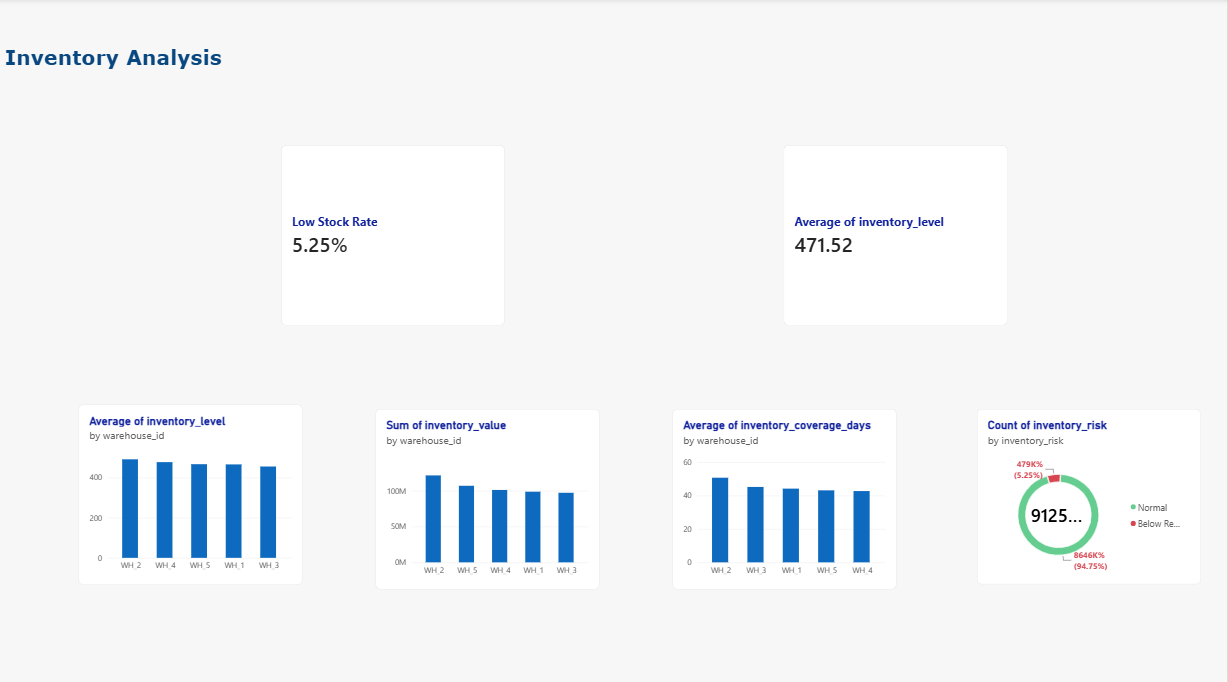

Layout of this report page (visuals, bound fields, positions):
{"tool":"powerbi","page":{"name":"Inventory Analysis","canvas":[1920,1080],"ordinal":1},"visuals":[{"type":"cardVisual","fields":{"Data":["Avg(public supply_chain.inventory_level)"]},"box":[1226.2,229.8,350,282],"z":0},{"type":"cardVisual","fields":{"Data":["public supply_chain.Low Stock Rate"]},"box":[440.8,229.8,350,282],"z":1},{"type":"clusteredColumnChart","fields":{"Category":["public supply_chain.warehouse_id"],"Y":["Avg(public supply_chain.inventory_level)"]},"box":[124.3,635.4,350,282],"z":2},{"type":"donutChart","fields":{"Category":["public supply_chain.inventory_risk"],"Y":["CountNonNull(public supply_chain.inventory_risk)"]},"box":[1528.6,642.4,350,274],"z":3},{"type":"clusteredColumnChart","fields":{"Category":["public supply_chain.warehouse_id"],"Y":["Avg(public supply_chain.inventory_coverage_days)"]},"box":[1052.7,642.4,350,282],"z":4},{"type":"clusteredColumnChart","fields":{"Category":["public supply_chain.warehouse_id"],"Y":["Sum(public supply_chain.inventory_value)"]},"box":[588.5,642.4,350,282],"z":5},{"type":"textbox","box":[9,0,291,209],"z":6},{"type":"textbox","box":[366,0,280,202],"z":7},{"type":"textbox","box":[9.4,35.2,1045.6,114.9],"z":8}]}

Visuals, with their boxes in screenshot pixels (x1, y1, x2, y2), scaled from the page's 1920x1080 canvas onto the 1228x682 screenshot:
cardVisual - Avg(public supply_chain.inventory_level): rect(784, 145, 1008, 323)
cardVisual - public supply_chain.Low Stock Rate: rect(282, 145, 506, 323)
clusteredColumnChart - public supply_chain.warehouse_id x Avg(public supply_chain.inventory_level): rect(80, 401, 303, 579)
donutChart - public supply_chain.inventory_risk x CountNonNull(public supply_chain.inventory_risk): rect(978, 406, 1202, 579)
clusteredColumnChart - public supply_chain.warehouse_id x Avg(public supply_chain.inventory_coverage_days): rect(673, 406, 897, 584)
clusteredColumnChart - public supply_chain.warehouse_id x Sum(public supply_chain.inventory_value): rect(376, 406, 600, 584)
textbox: rect(6, 0, 192, 132)
textbox: rect(234, 0, 413, 128)
textbox: rect(6, 22, 675, 95)
